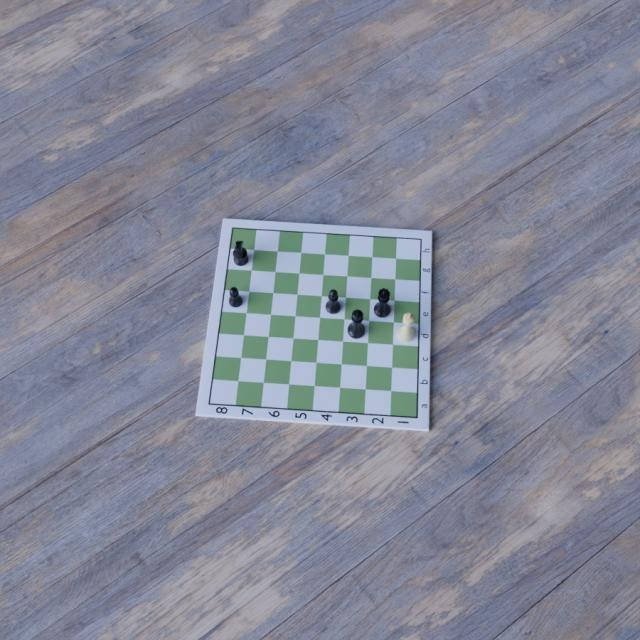black-bishop: (325, 289, 342, 315)
black-king: (347, 309, 365, 339)
black-knight: (233, 240, 249, 267)
black-pawn: (229, 287, 243, 309)
black-queen: (372, 287, 391, 318)
white-king: (397, 310, 415, 341)
